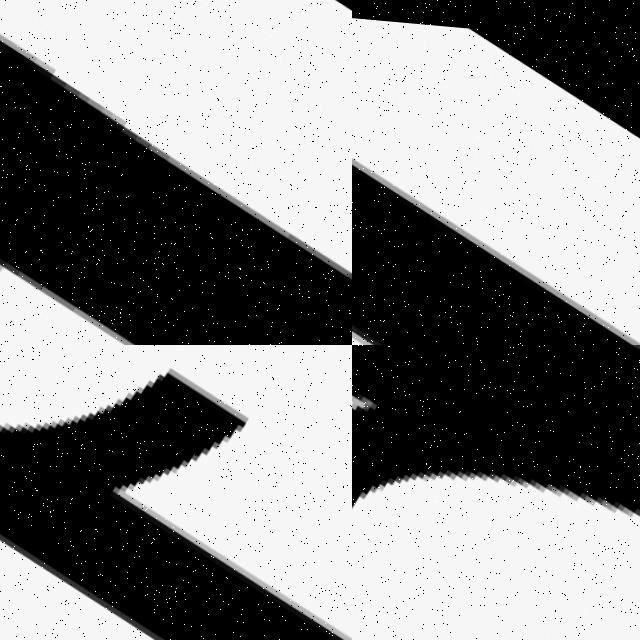1: (0, 345, 352, 640)
L: (0, 24, 352, 345)
R: (352, 0, 640, 345), (352, 345, 640, 640)
